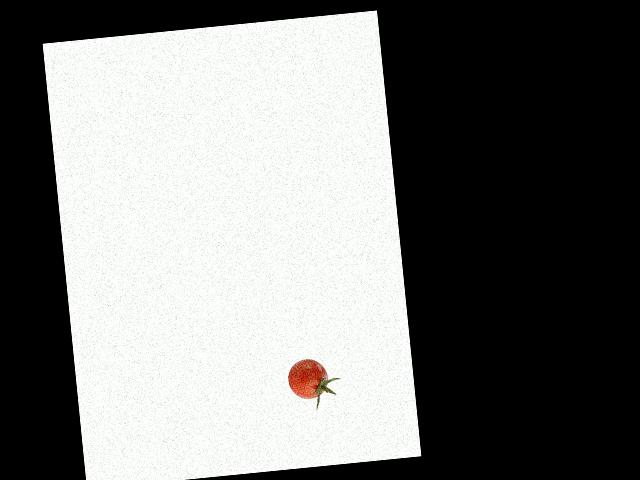tomato: (286, 357, 329, 400)
